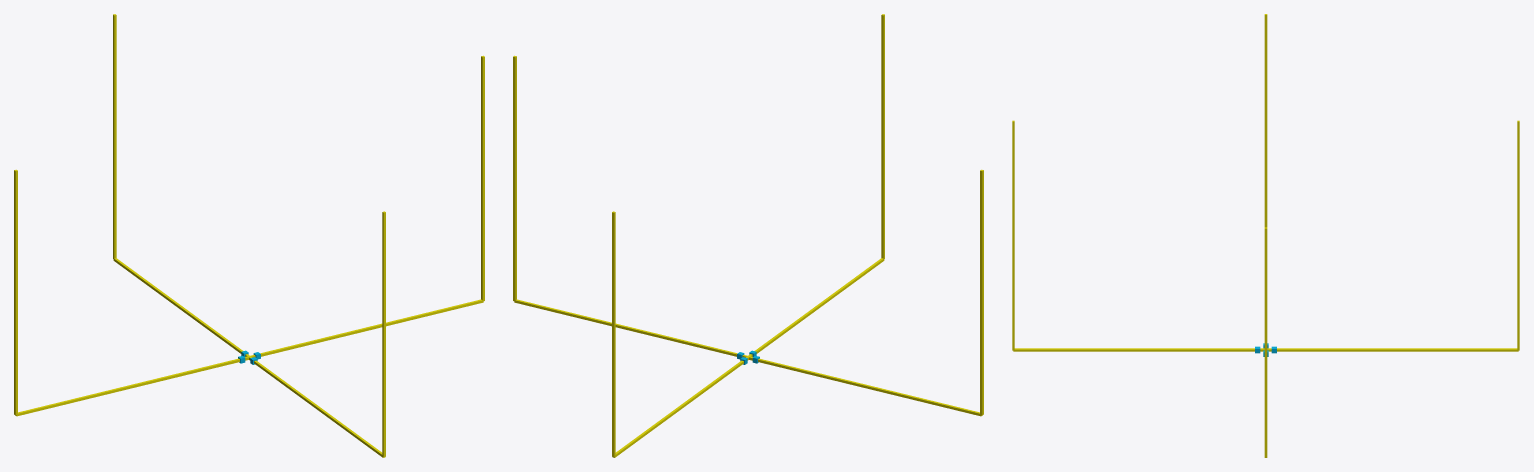
The model's file is axesBoxes.gltf.
3 views of the same model, side by side, from view 1: azimuth 30°, elevation 25°; view 2: azimuth 150°, elevation 25°; view 3: azimuth 270°, elevation 25° (orthographic). The views are drawn at different scales.
Parts seen in each view (by area): view 1: Cube.003, Cube.002, Cube.011, Cube.009, Cube, Cube.005, Cube.001, Cube.004; view 2: Cube.003, Cube.002, Cube.011, Cube, Cube.005, Cube.009, Cube.004, Cube.001; view 3: Cube.001, Cube.004, Cube, Cube.011, Cube.005, Cube.009.
Boxes of the visible parts, left/top/right/bottom form: Cube.003: left=15, top=356, right=248, bottom=416; Cube.002: left=249, top=299, right=483, bottom=357; Cube.011: left=14, top=169, right=17, bottom=415; Cube.009: left=382, top=211, right=385, bottom=456; Cube: left=481, top=55, right=484, bottom=301; Cube.005: left=113, top=14, right=116, bottom=259; Cube.001: left=249, top=356, right=385, bottom=457; Cube.004: left=113, top=258, right=249, bottom=356; Cube.003: left=749, top=356, right=982, bottom=416; Cube.002: left=514, top=299, right=748, bottom=357; Cube.011: left=980, top=169, right=983, bottom=415; Cube: left=513, top=55, right=516, bottom=300; Cube.005: left=612, top=211, right=615, bottom=456; Cube.009: left=881, top=14, right=884, bottom=259; Cube.004: left=612, top=356, right=748, bottom=457; Cube.001: left=748, top=258, right=884, bottom=356; Cube.001: left=1013, top=348, right=1264, bottom=351; Cube.004: left=1267, top=348, right=1518, bottom=351; Cube: left=1264, top=227, right=1267, bottom=457; Cube.011: left=1264, top=14, right=1267, bottom=227; Cube.005: left=1517, top=120, right=1519, bottom=350; Cube.009: left=1012, top=120, right=1014, bottom=350.
Size of the model in its own units: 201 by 101 by 201.
